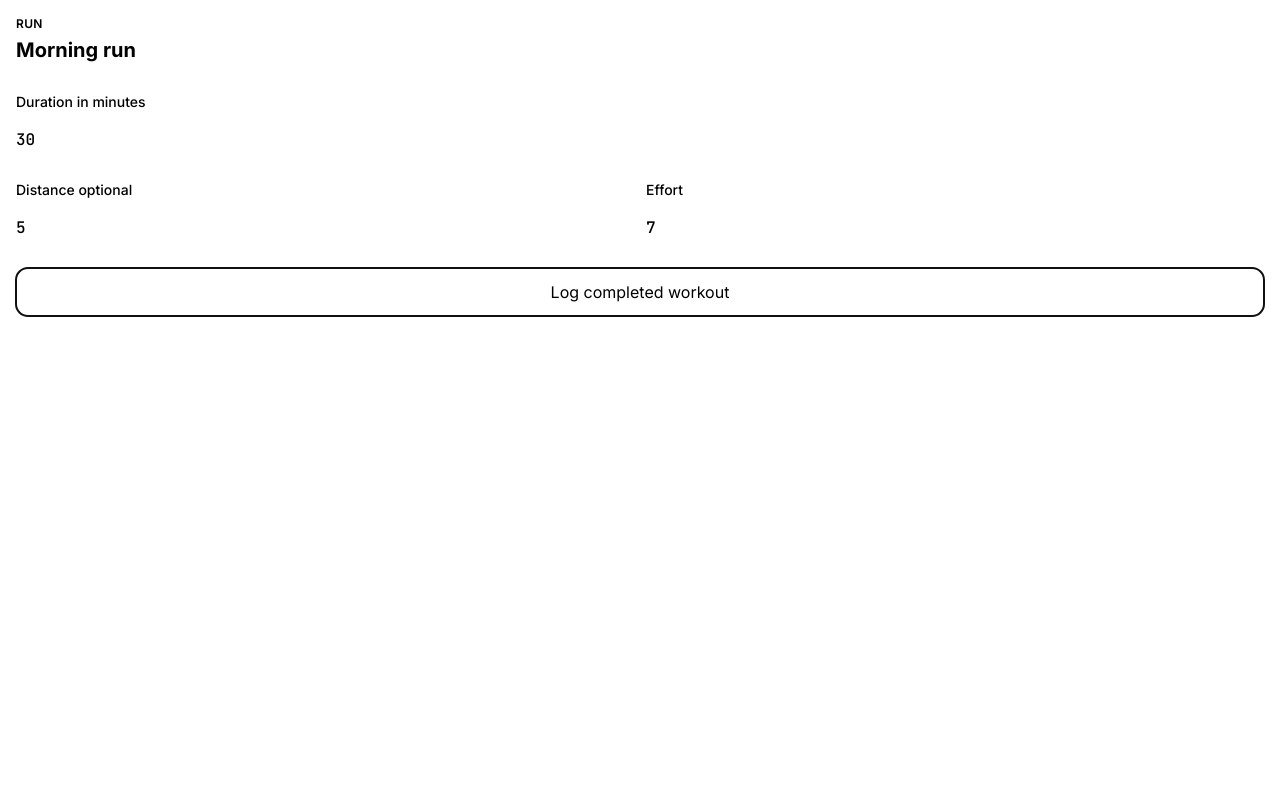
Test case: LiveCardio › uses the shared accessible confirmation and restores focus after Escape
The width and height of the screenshot is (1280, 800).
Click the button "Log completed workout" at (640, 292), box [16, 268, 1264, 316]
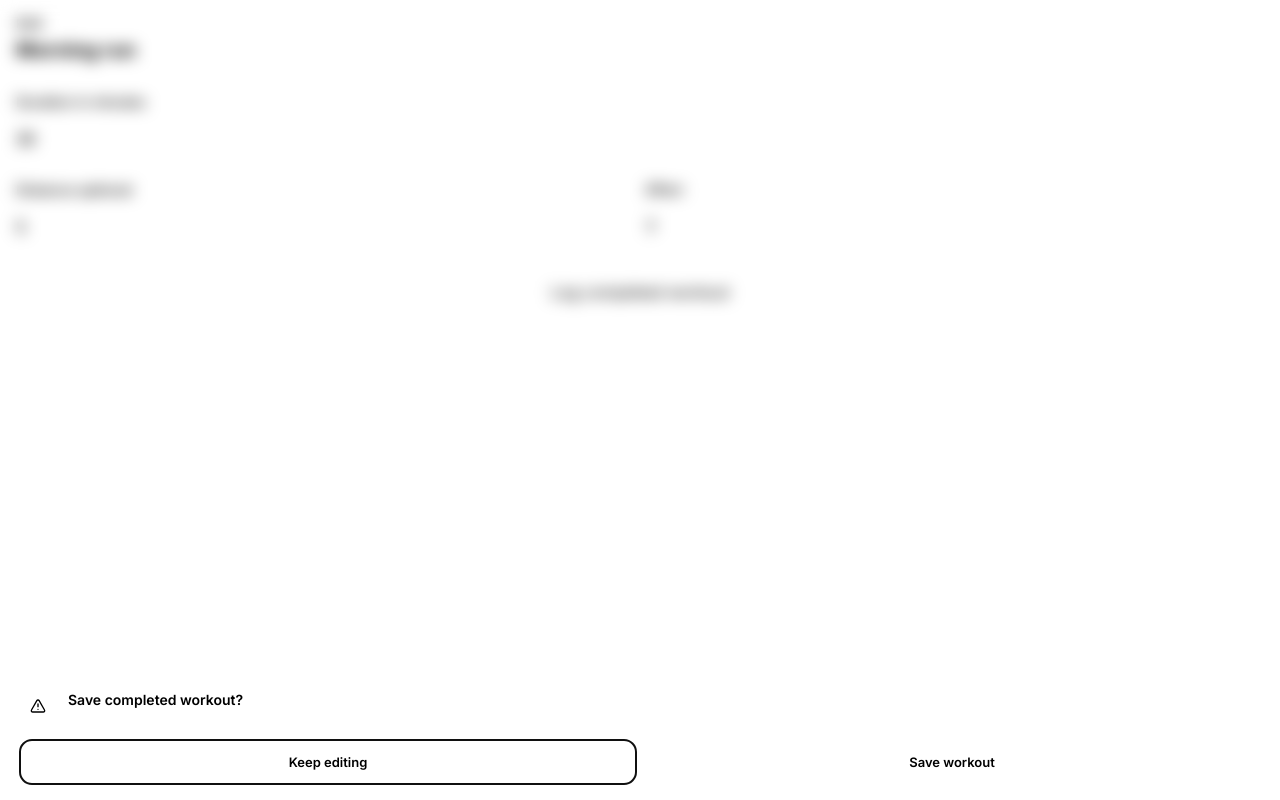
Check: the dialog "Save completed workout?" is shown
Press Escape in the dialog "Save completed workout?", box [0, 656, 1279, 799]
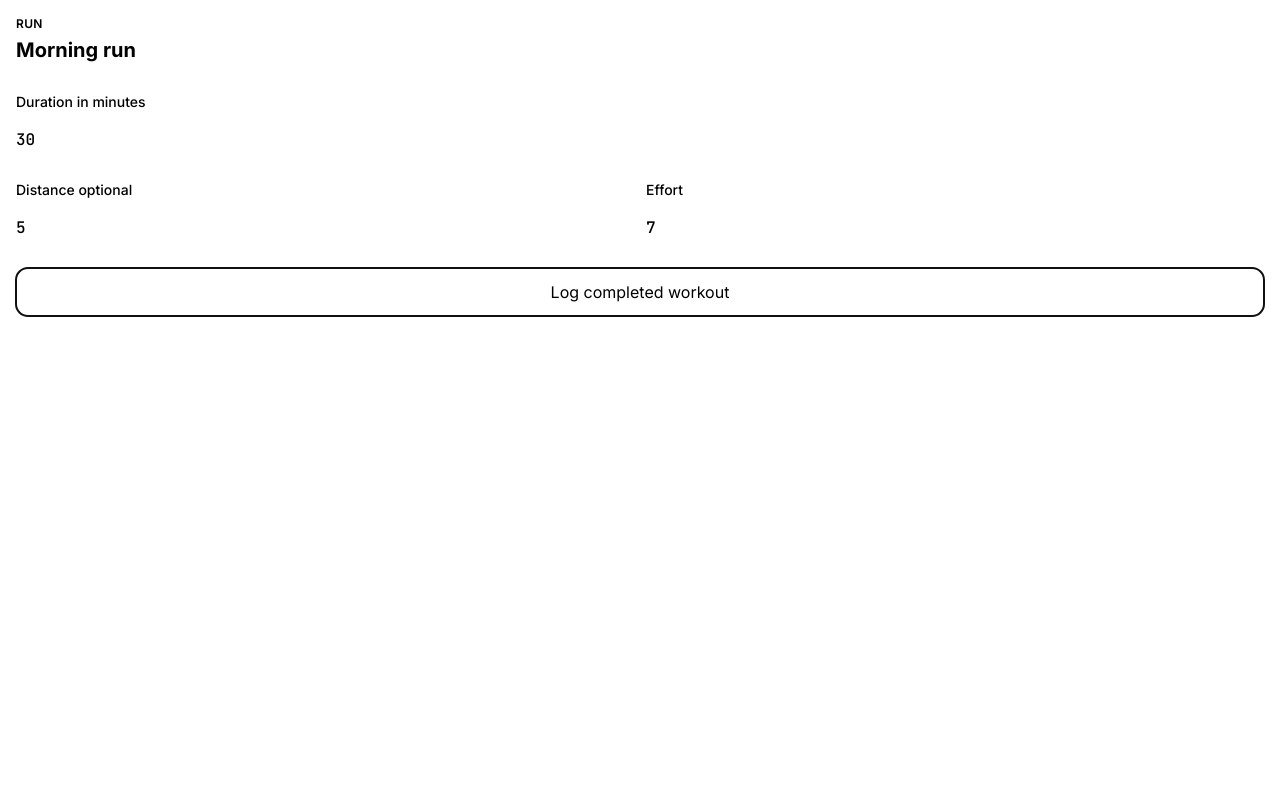
Check: the dialog is gone
